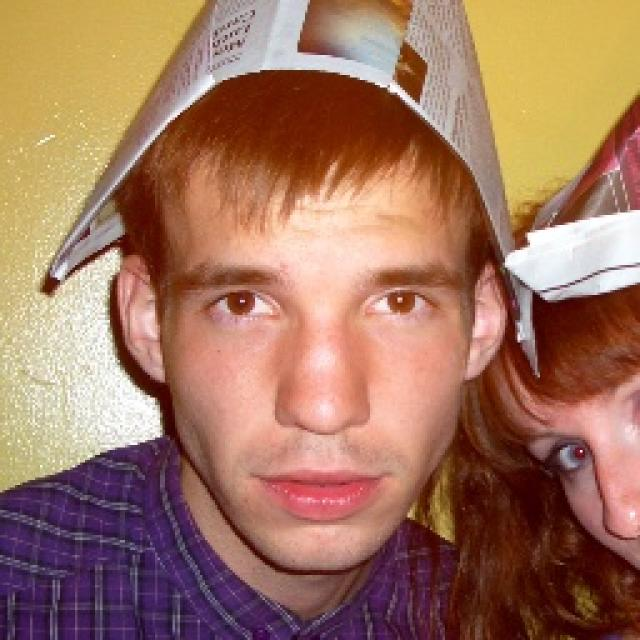earlobe: (114, 253, 171, 385), (462, 260, 505, 382)
